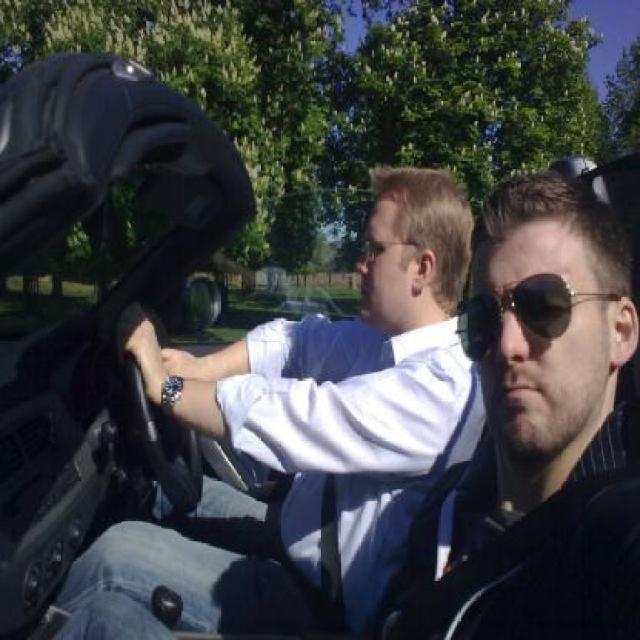face_nomask: (469, 281, 582, 421), (351, 224, 400, 316)
glasses: (475, 271, 613, 352), (360, 234, 398, 266)
hand_noglove: (107, 291, 179, 398)
head_nohelmet: (462, 157, 607, 254), (364, 156, 470, 224)
